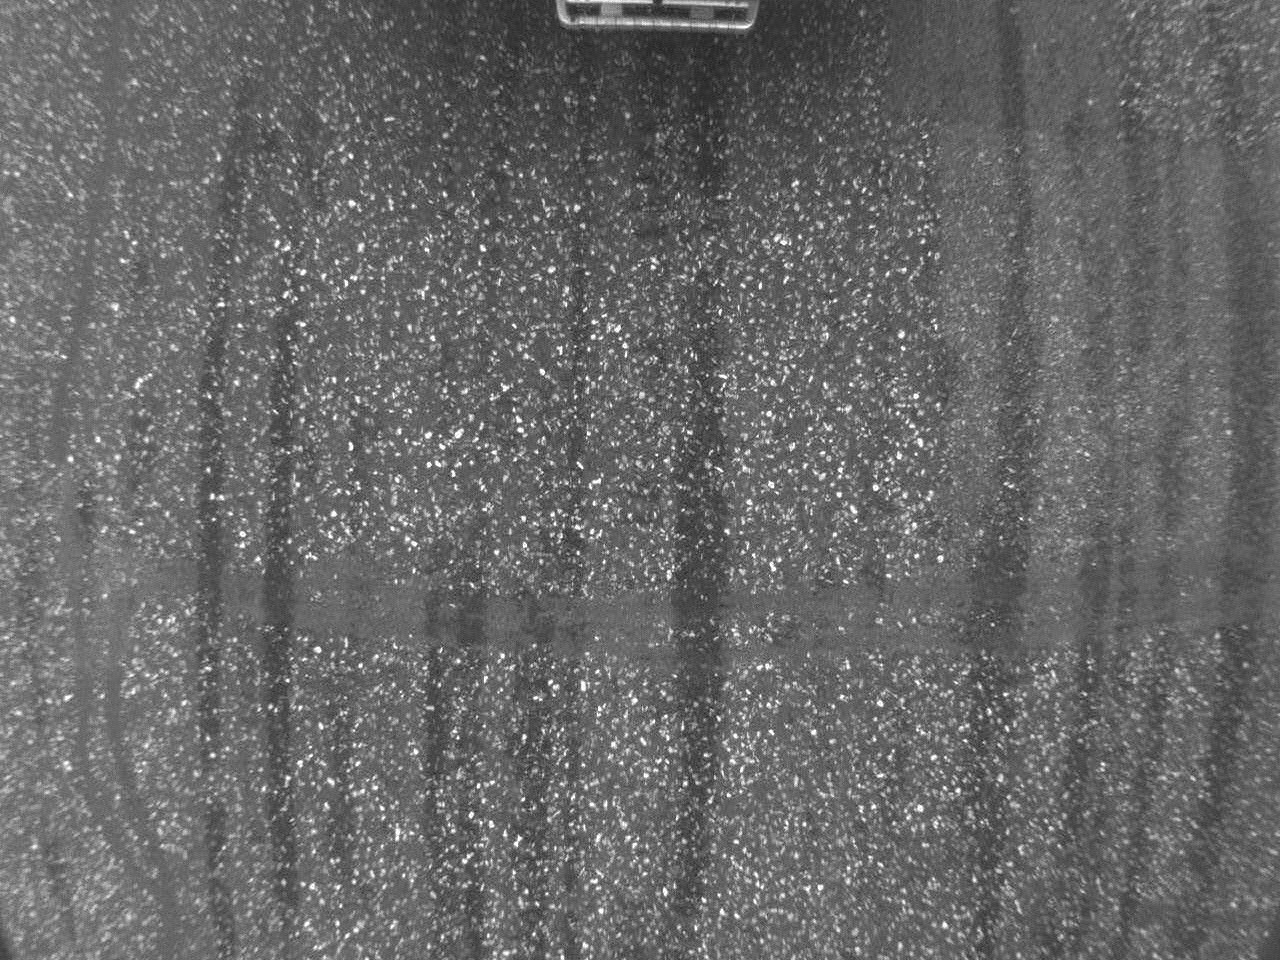sealed: (194, 538, 1262, 666)
